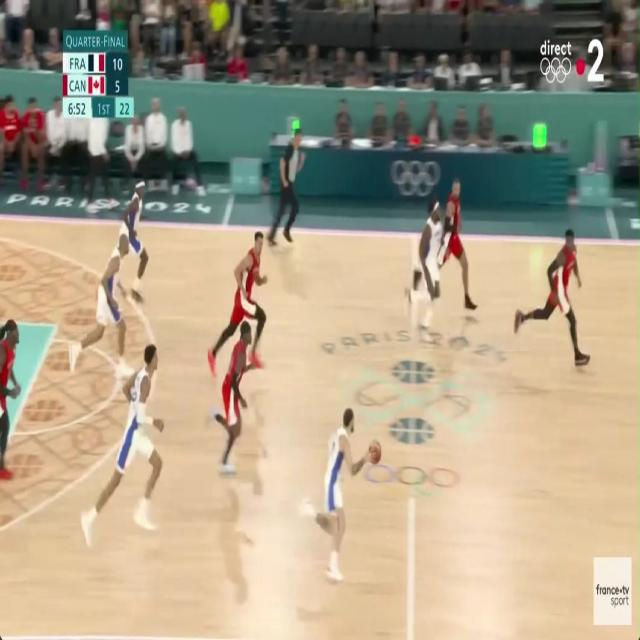ball_handler: (322, 398, 384, 582)
